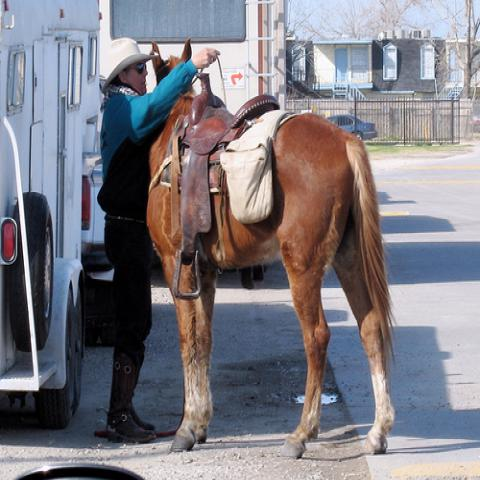bus: (85, 1, 287, 245), (1, 0, 99, 427)
car: (82, 149, 105, 268), (328, 117, 378, 140)
